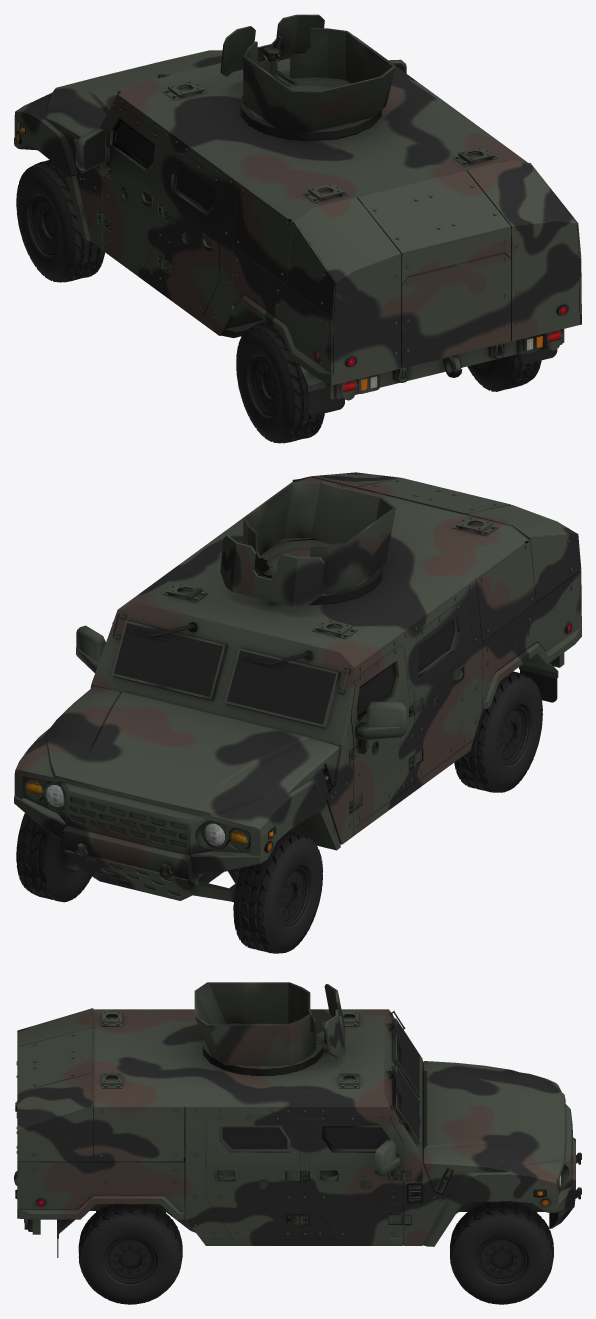
The model's file is k153_lrv.fbx.
The picture shows the model from 3 angles, top to bottom: view 1: azimuth 30°, elevation 25°; view 2: azimuth 150°, elevation 25°; view 3: azimuth 270°, elevation 25°; orthographic projection. The views are drawn at different scales.
Visible parts, largest first — view 1: chassis, turret; view 2: chassis, turret; view 3: chassis, turret.
Boxes of the visible parts, bbox=[...] form: chassis: bbox=[14, 36, 581, 443]; turret: bbox=[220, 14, 395, 140]; chassis: bbox=[14, 472, 581, 953]; turret: bbox=[220, 482, 395, 606]; chassis: bbox=[14, 1008, 581, 1304]; turret: bbox=[194, 982, 345, 1075].
Bounding box in the file's own units: 279 × 242 × 494.
